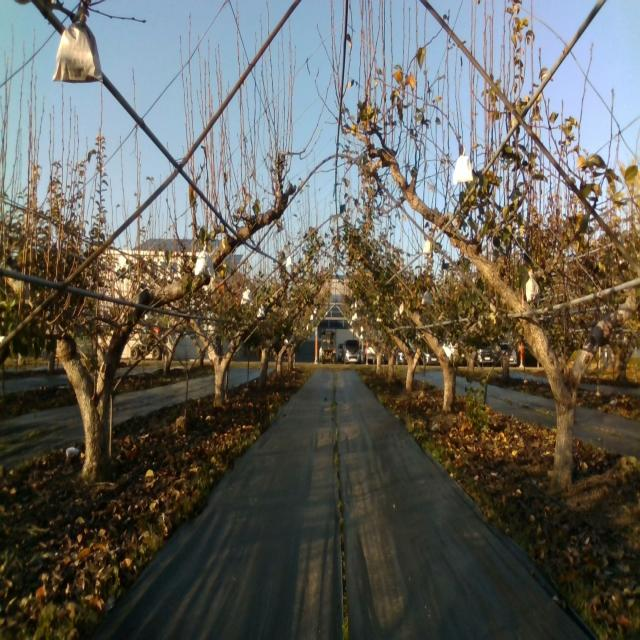pearbags: (52, 12, 103, 86), (453, 150, 473, 188), (195, 246, 215, 276), (525, 268, 541, 303), (240, 286, 253, 306)
